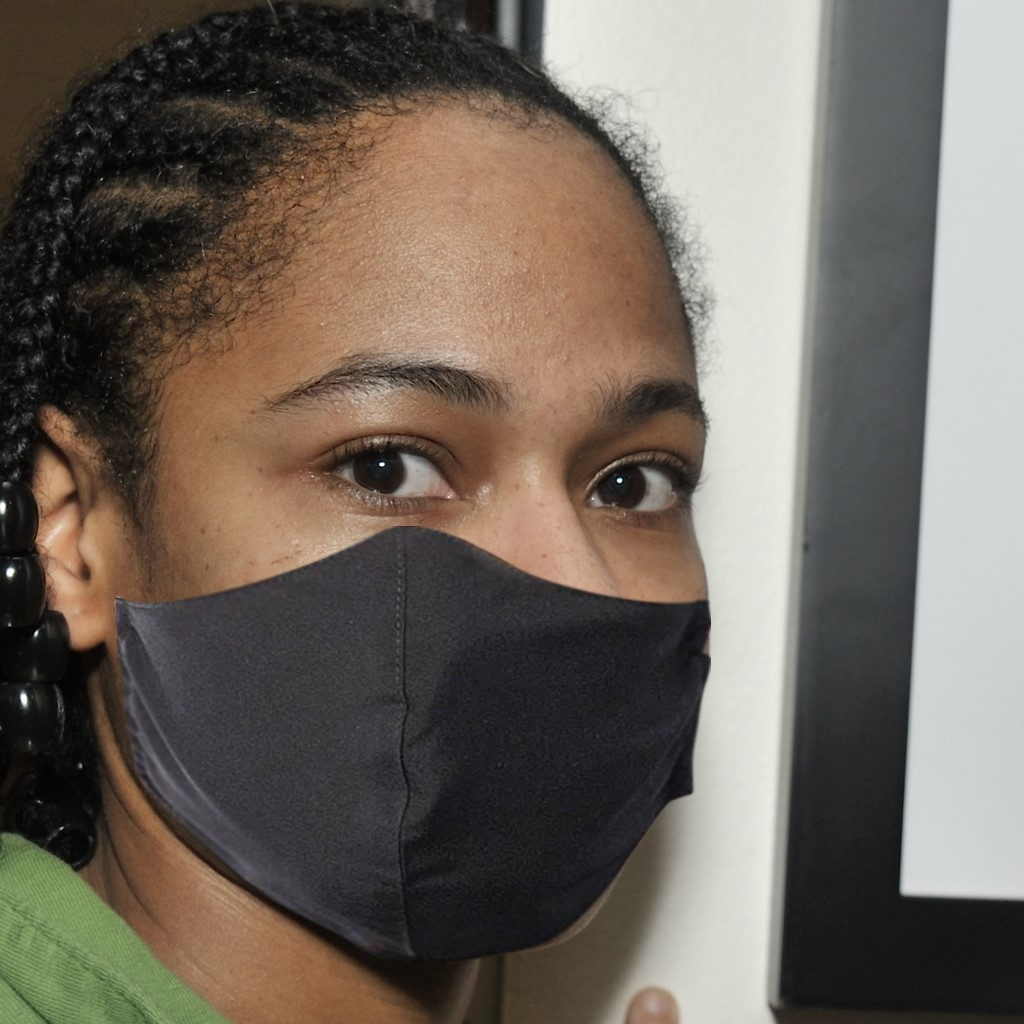con_mascara: (99, 76, 714, 973)
